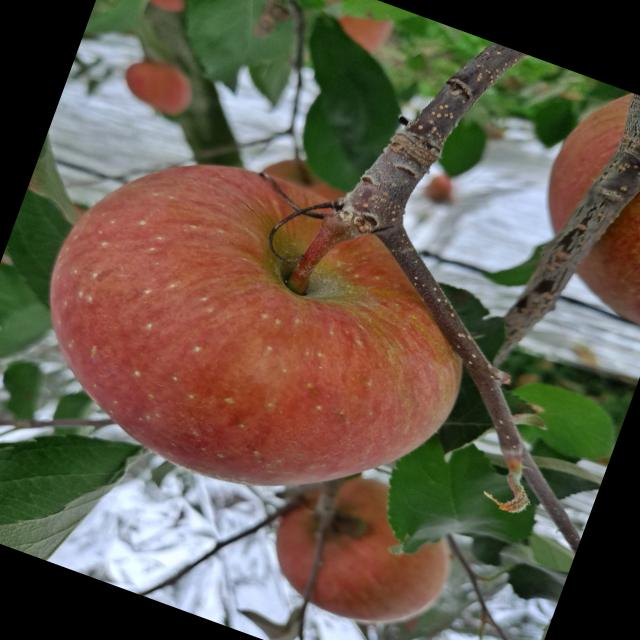fresh: (1, 103, 530, 563)
